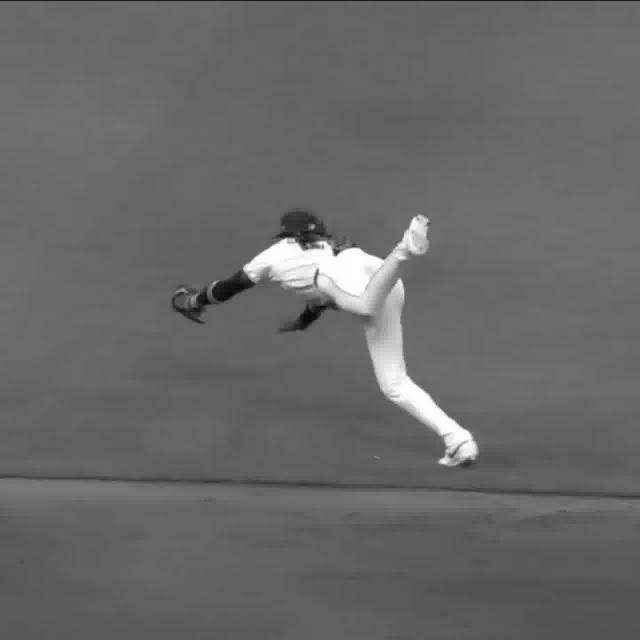baseball_glove: (162, 285, 221, 324)
shoe: (435, 433, 482, 472), (404, 212, 440, 258)
